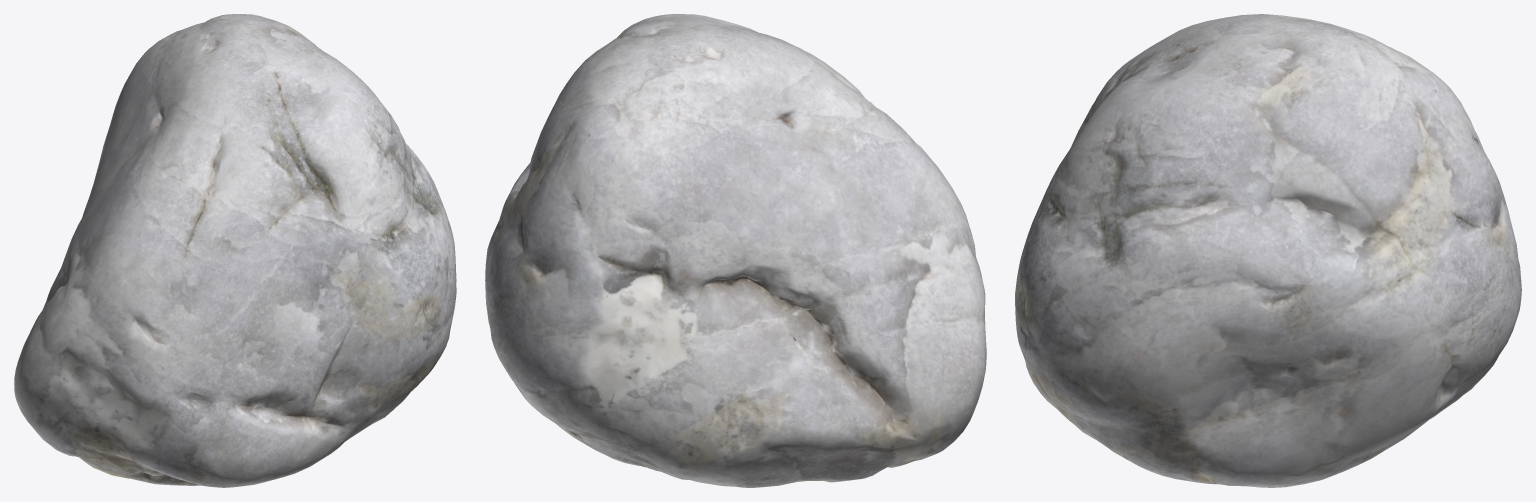
The picture shows the model from 3 angles, left to right: view 1: azimuth 30°, elevation 25°; view 2: azimuth 150°, elevation 25°; view 3: azimuth 270°, elevation 25°; orthographic projection. The views are drawn at different scales.
Visible parts, largest first — view 1: rock-011; view 2: rock-011; view 3: rock-011.
Part boxes in pixels (x1=…): rock-011: x1=14, y1=14, x2=456, y2=487; rock-011: x1=485, y1=14, x2=986, y2=487; rock-011: x1=1015, y1=14, x2=1521, y2=487.
Bounding box in the file's own units: 2 × 1.87 × 1.98.
Materials: 1 (1 with a texture image).
